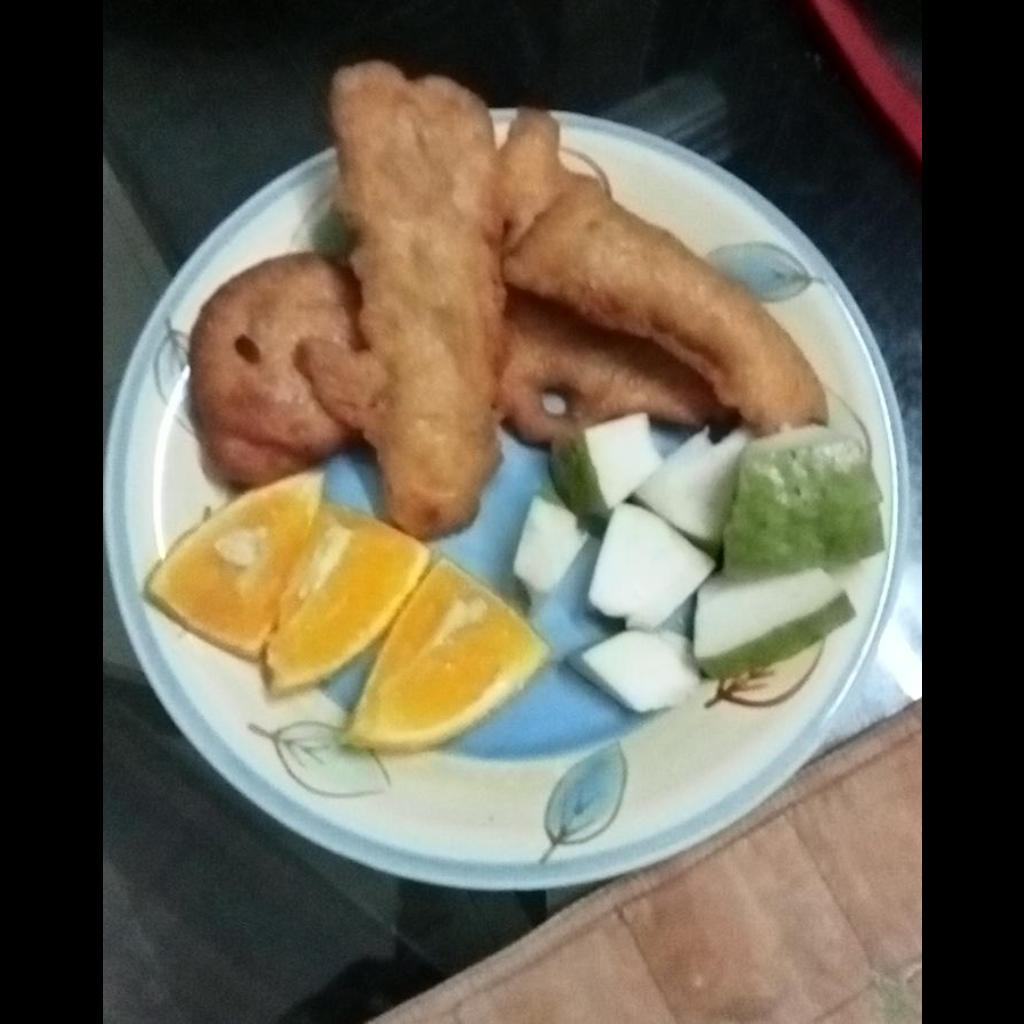beguni: (306, 59, 830, 542)
chop-alu: (189, 251, 362, 480)
guava: (511, 417, 893, 718)
orange: (138, 468, 557, 745)
